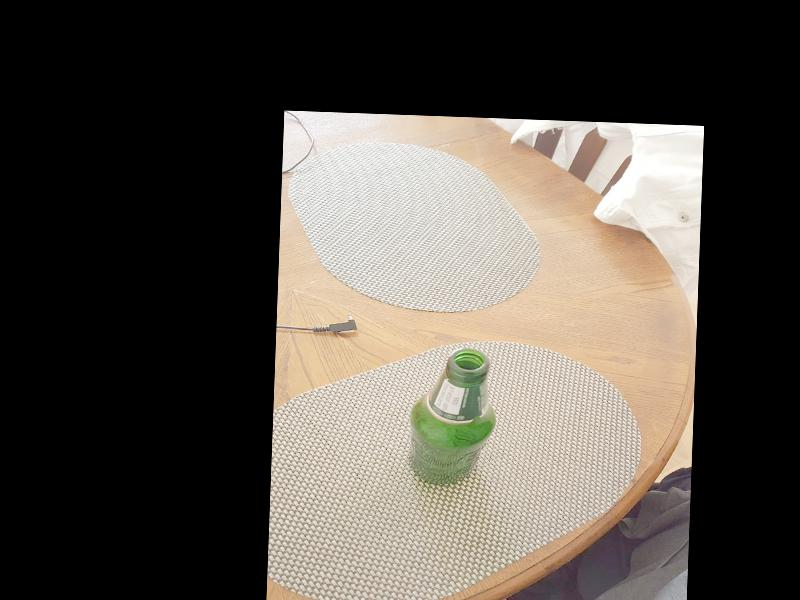Beer: (408, 347, 499, 487)
